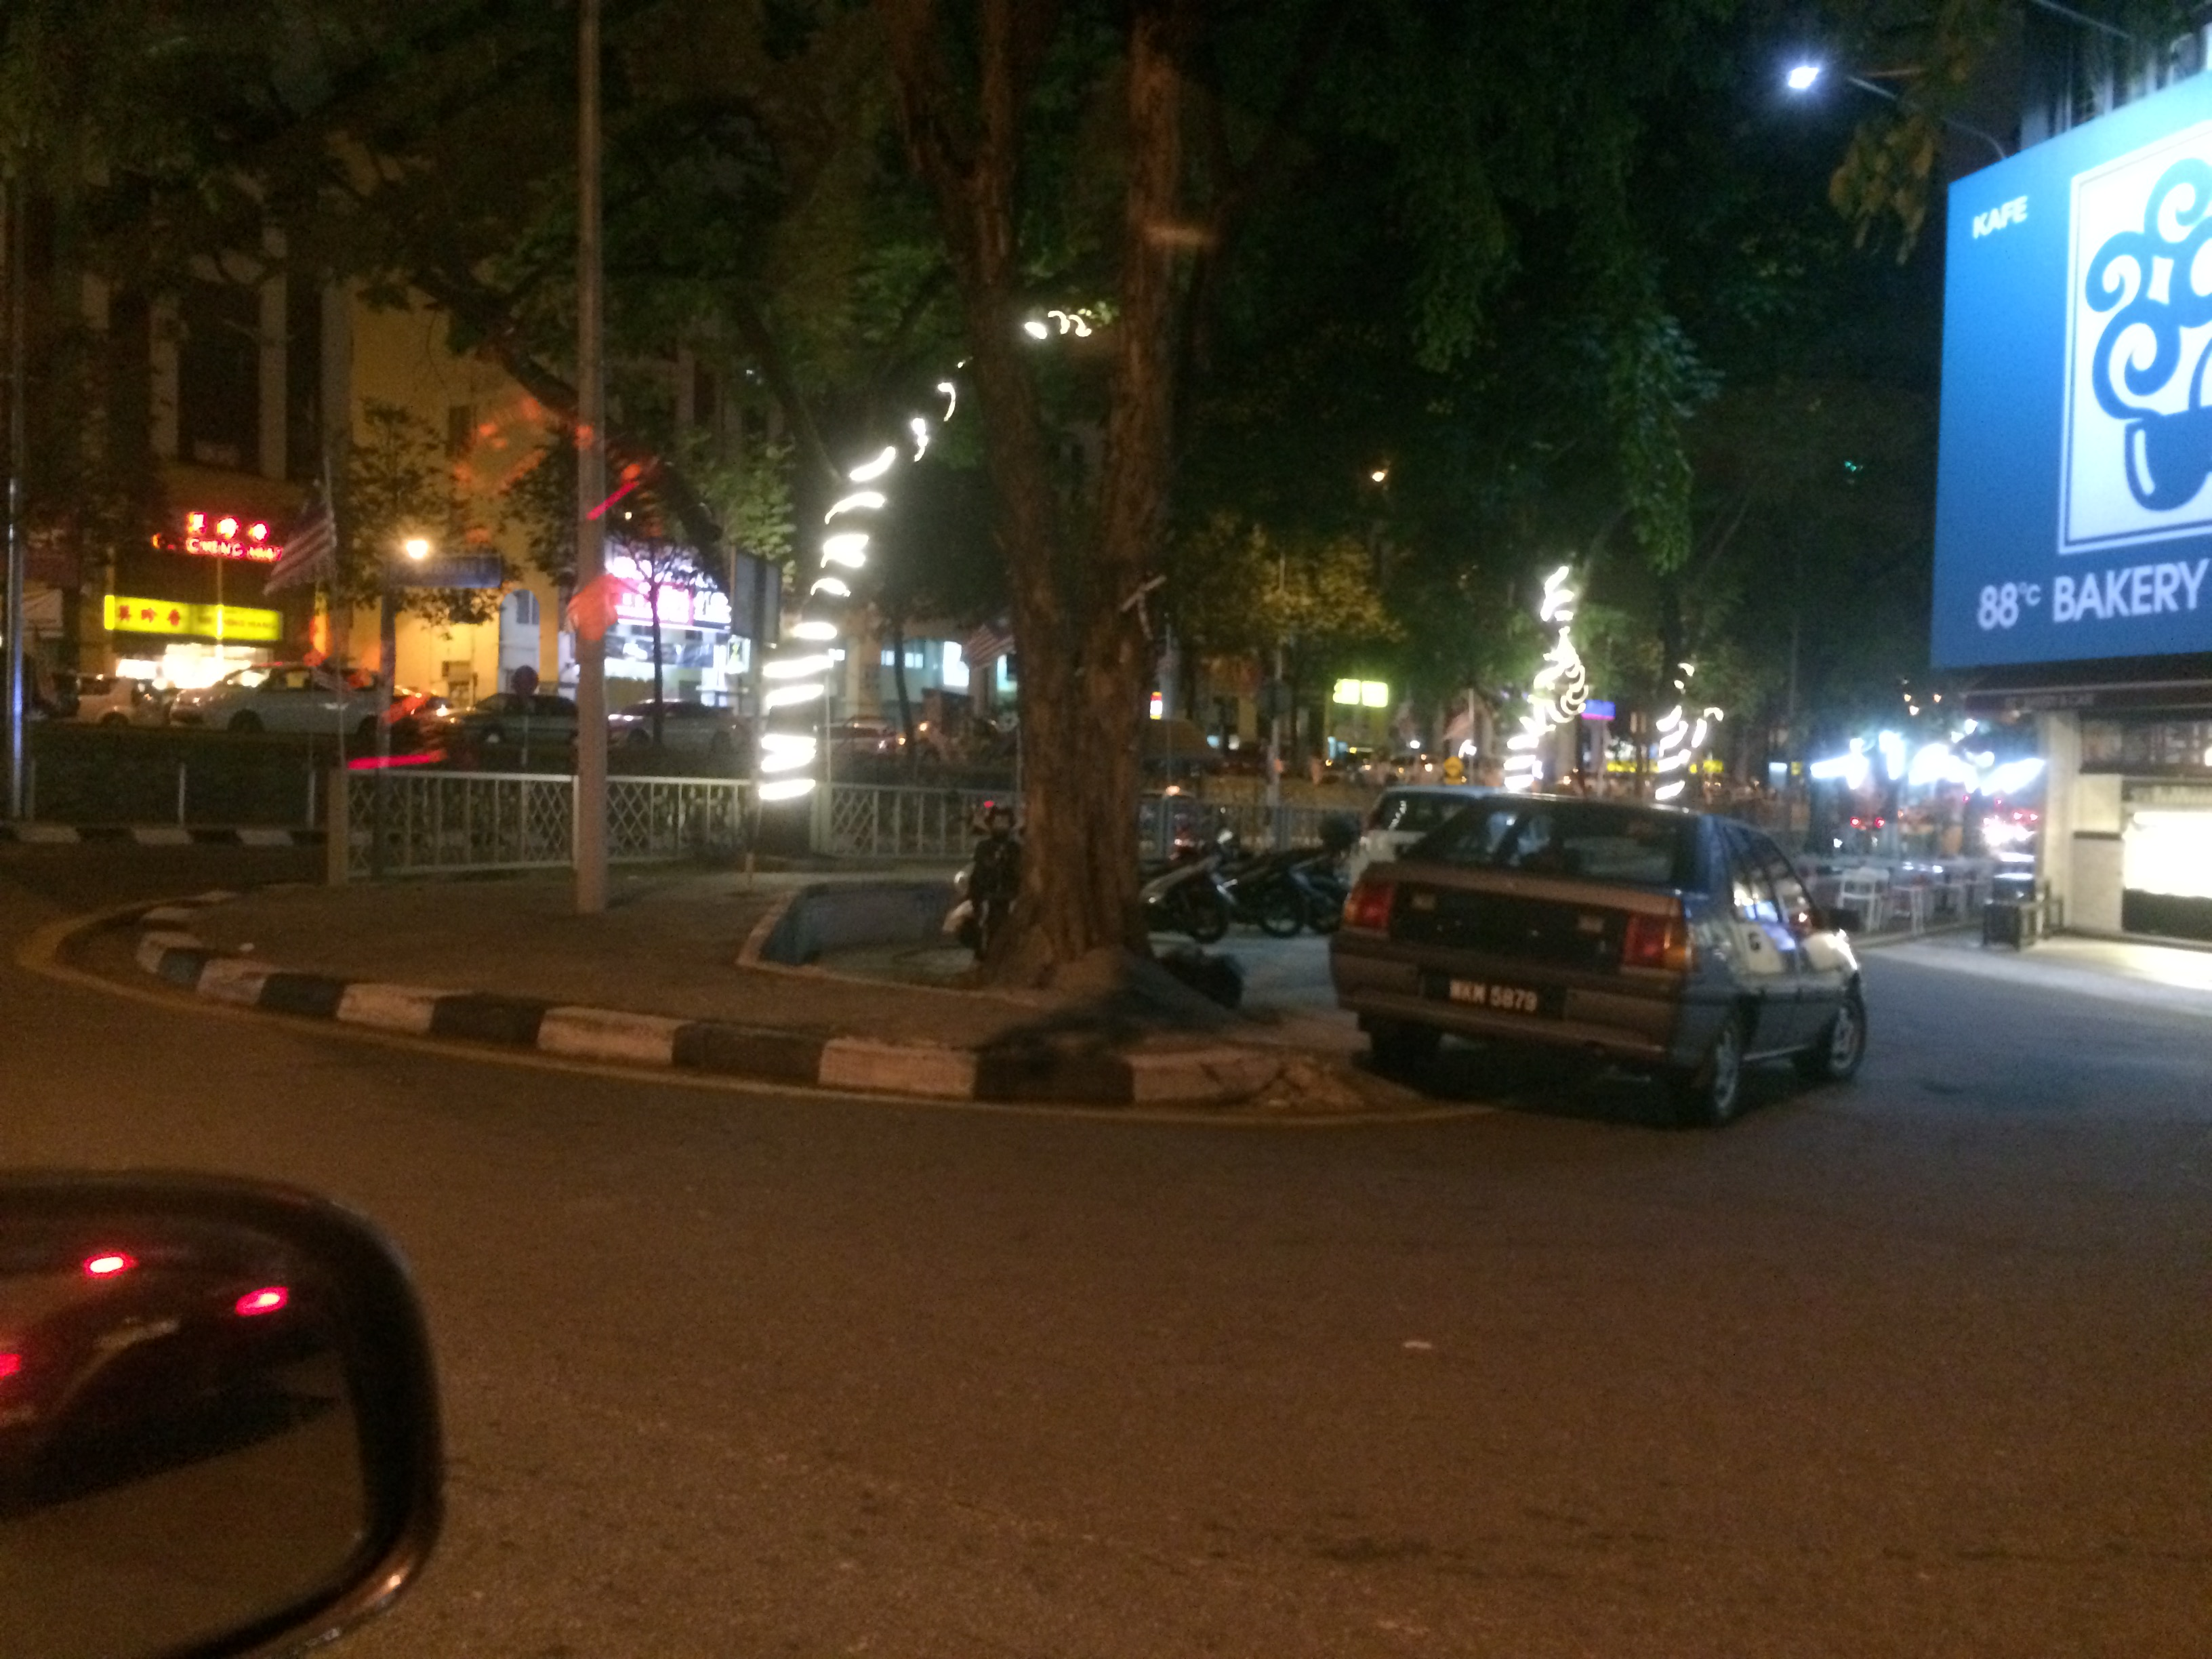car: (1313, 779, 1895, 1150)
